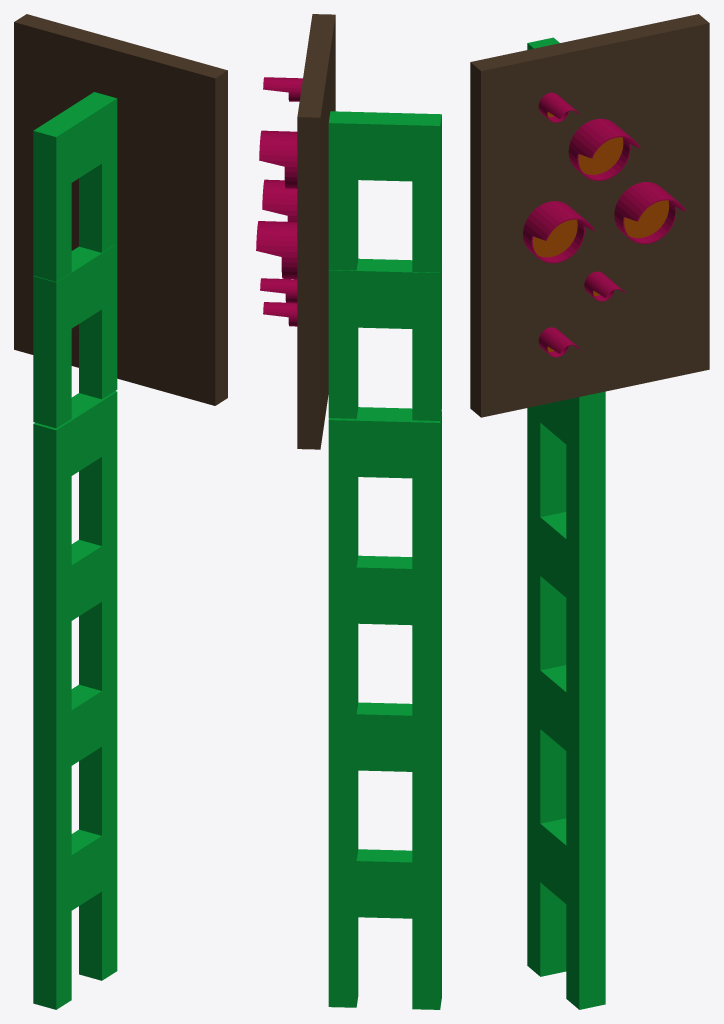
The model's file is advtrains_signals_ks_main_smr60.obj.
3 renders of one model, left to right at view 1: azimuth 30°, elevation 25°; view 2: azimuth 150°, elevation 25°; view 3: azimuth 270°, elevation 25°, orthographic. The views are drawn at different scales.
Visible parts, largest first — view 1: KsHauptsignal_Plane.006; view 2: KsHauptsignal_Plane.006; view 3: KsHauptsignal_Plane.006.
Part boxes in pixels (x1,y1,x2,y2): KsHauptsignal_Plane.006: (14,14,227,1009); KsHauptsignal_Plane.006: (256,14,441,1009); KsHauptsignal_Plane.006: (470,14,709,1009).
Size of the model in its own units: 0.4217 by 2.1 by 0.4688.
